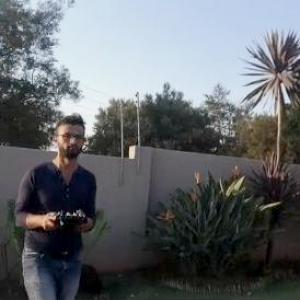follow: (10, 107, 102, 299)
